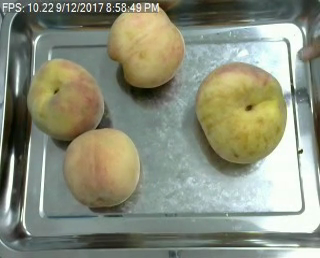Peach: (194, 62, 286, 164), (26, 56, 105, 141), (108, 2, 184, 86), (64, 127, 140, 208)
